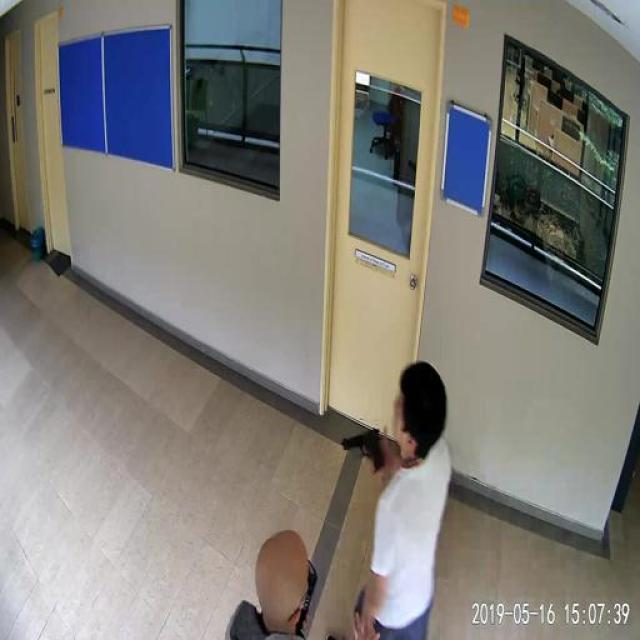Gun: (334, 416, 392, 472)
